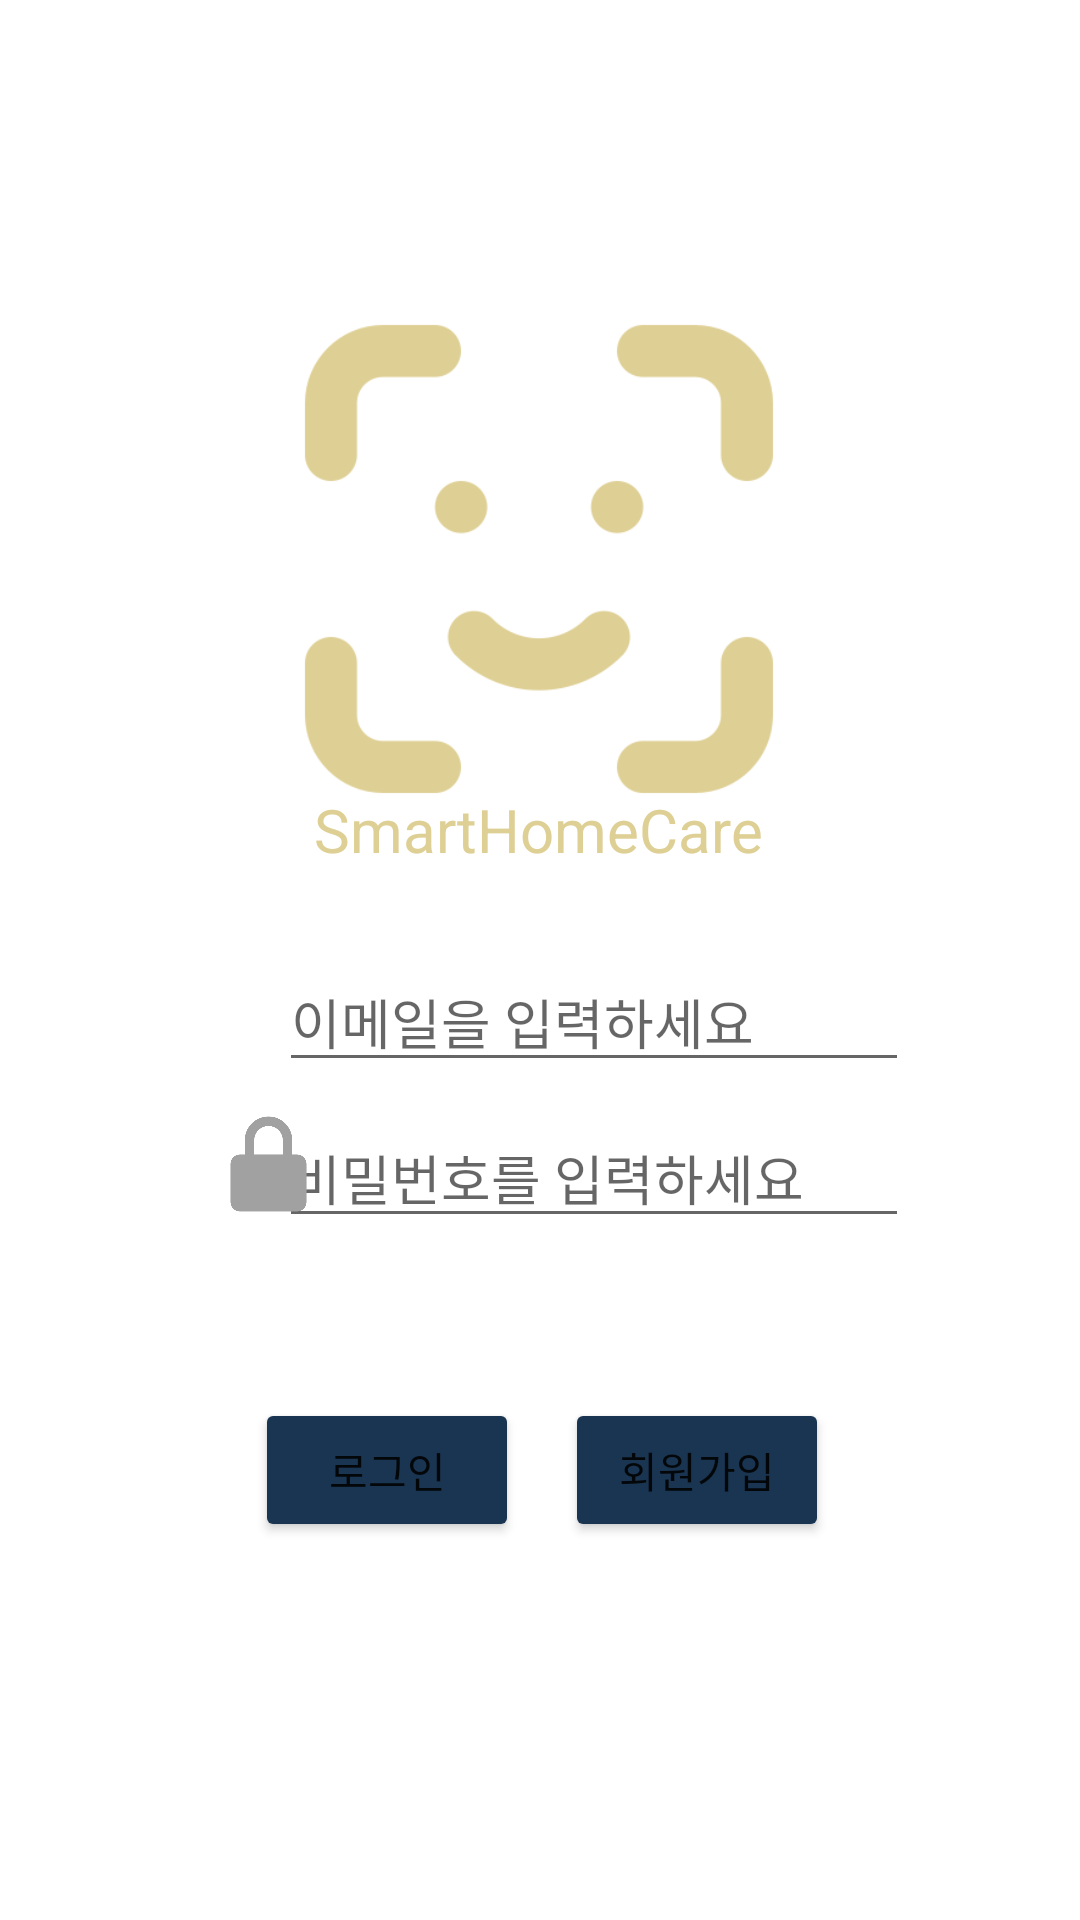

Where to tap for icons on this 1080 × 1920 app screen, as (x=x, y=y):
lock: (x=286, y=1165)
